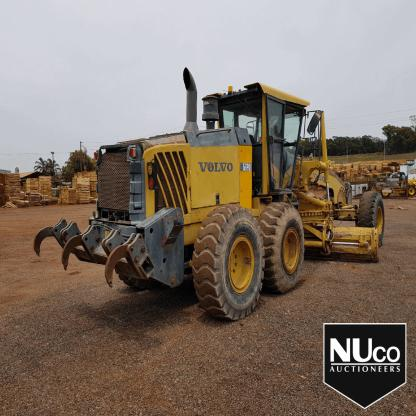bull_dozer/loader/grader: (43, 66, 397, 322)
